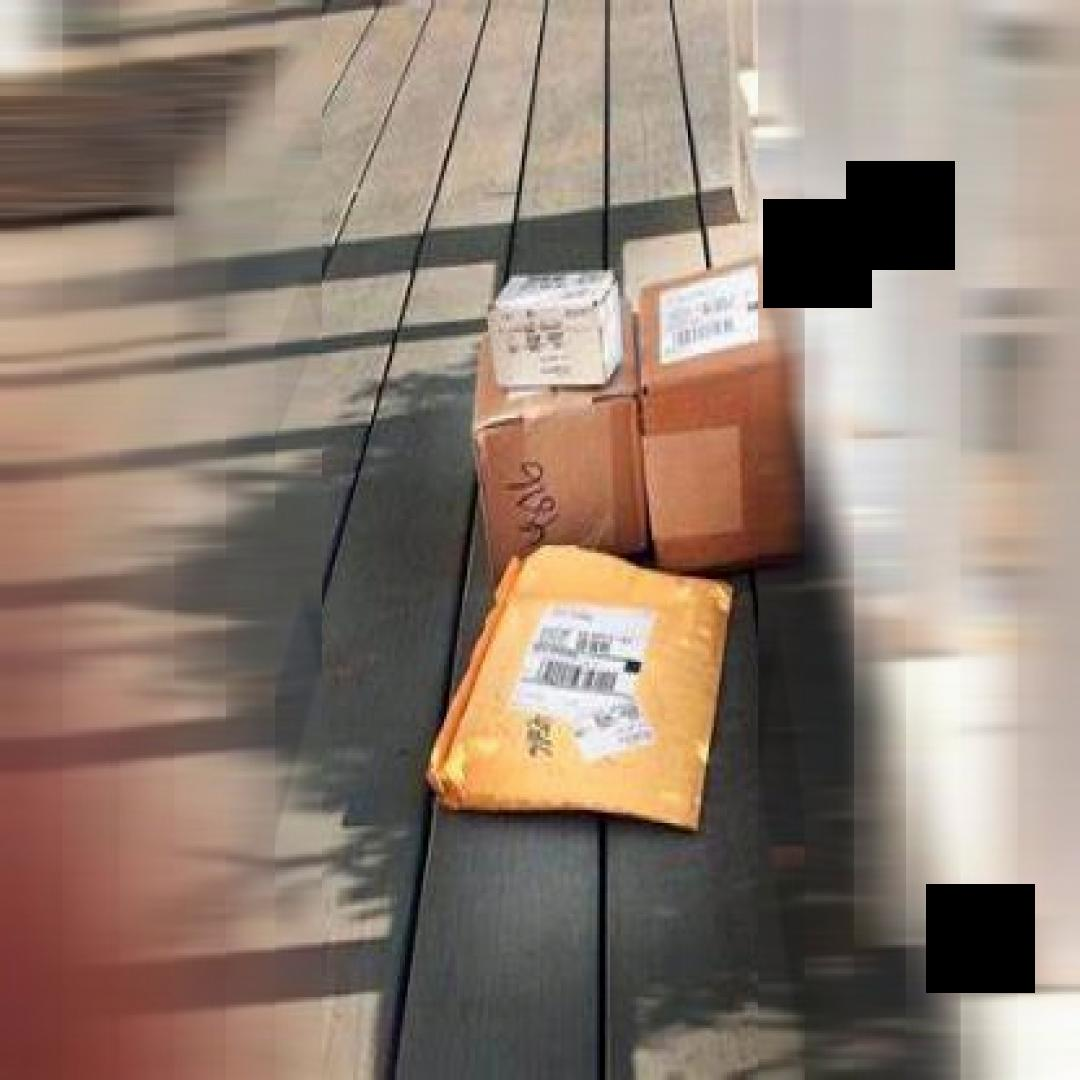package: (638, 249, 804, 587), (476, 304, 638, 631), (483, 265, 626, 384)
